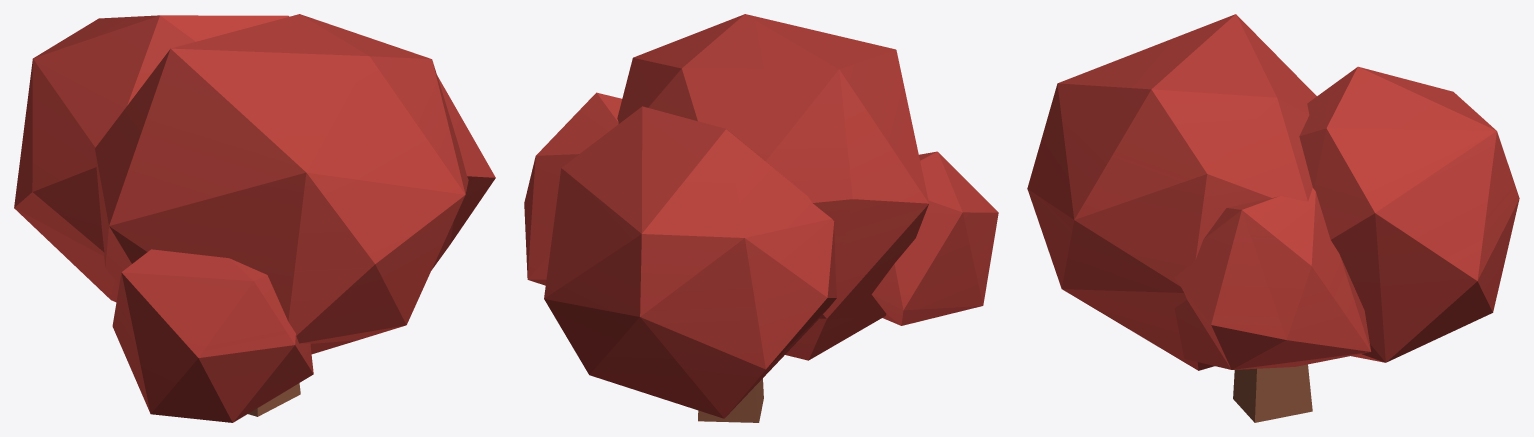
The model's file is Bush_6_gradient_red_pal.fbx.
3 renders of one model, left to right at view 1: azimuth 30°, elevation 25°; view 2: azimuth 150°, elevation 25°; view 3: azimuth 270°, elevation 25°, orthographic. The views are drawn at different scales.
Parts seen in each view (by area): view 1: Bush_6_gradient_red_pal; view 2: Bush_6_gradient_red_pal; view 3: Bush_6_gradient_red_pal.
Boxes of the visible parts, x1,y1,x2,y2 form: Bush_6_gradient_red_pal: [14, 14, 495, 422]; Bush_6_gradient_red_pal: [524, 14, 998, 422]; Bush_6_gradient_red_pal: [1027, 14, 1519, 422].
Bounding box in the file's own units: 30.85 × 27.54 × 35.35.
